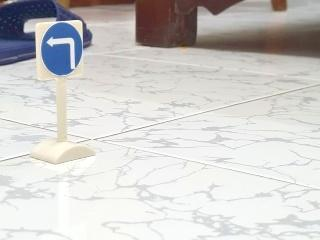left: (35, 21, 85, 77)
